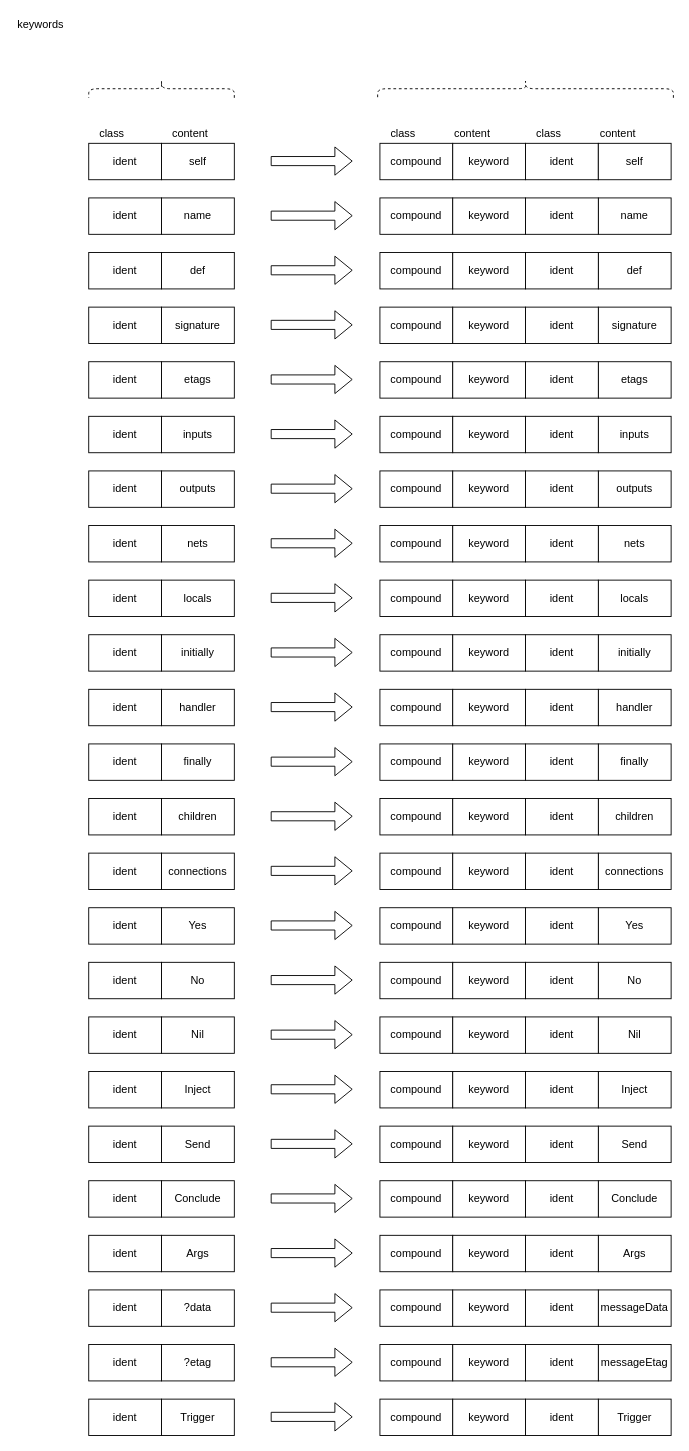
This 689x1451 diagram has some shape labels left out. The centre of each missing label's shape, as x and y in pixels:
format: (525,88)
match: (161,88)
